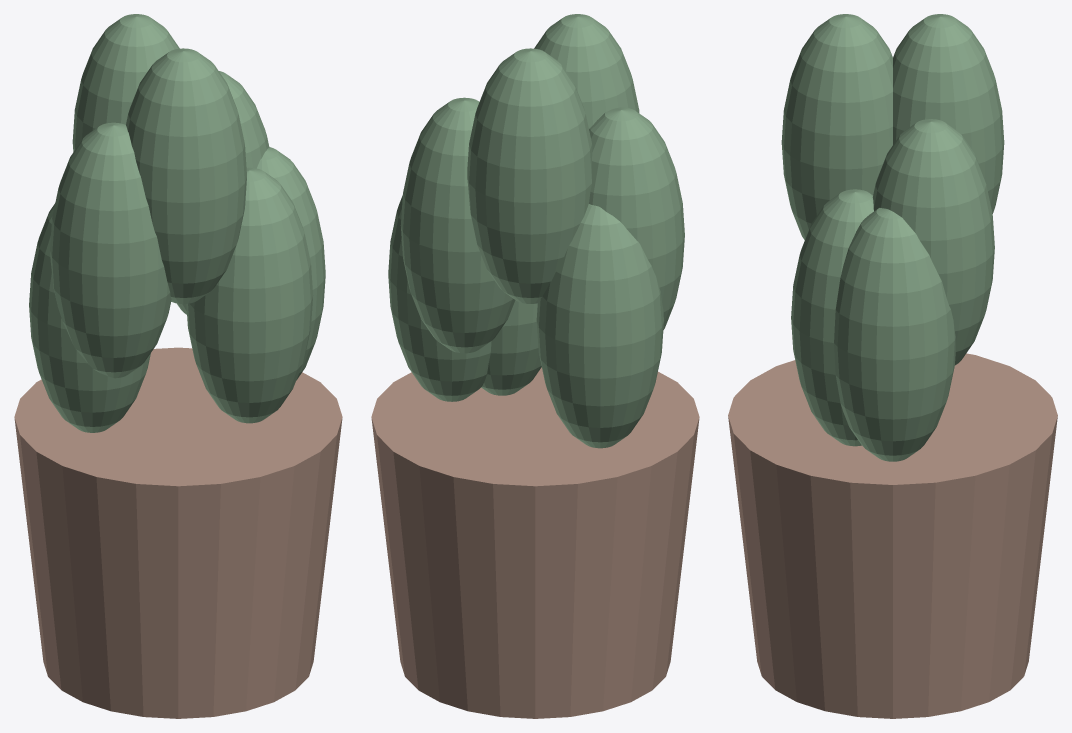
File: sketch_plant.glb
3 renders of one model, left to right at view 1: azimuth 30°, elevation 25°; view 2: azimuth 150°, elevation 25°; view 3: azimuth 270°, elevation 25°, orthographic.
Visible parts, largest first — view 1: Cone, Sphere.004, Sphere.005, Sphere.006, Sphere.003, Sphere.002, Sphere, Sphere.001; view 2: Cone, Sphere.002, Sphere.003, Sphere.001, Sphere.004, Sphere, Sphere.005, Sphere.006; view 3: Cone, Sphere, Sphere.005, Sphere.001, Sphere.002, Sphere.006.
Boxes of the visible parts, x1=… form: Cone: x1=14, y1=347, x2=342, y2=718; Sphere.004: x1=50, y1=122, x2=171, y2=378; Sphere.005: x1=126, y1=48, x2=246, y2=303; Sphere.006: x1=186, y1=167, x2=313, y2=423; Sphere.003: x1=29, y1=203, x2=150, y2=432; Sphere.002: x1=72, y1=14, x2=179, y2=151; Sphere: x1=257, y1=147, x2=325, y2=380; Sphere.001: x1=177, y1=71, x2=269, y2=314; Cone: x1=371, y1=367, x2=699, y2=718; Sphere.002: x1=467, y1=48, x2=592, y2=303; Sphere.003: x1=536, y1=204, x2=663, y2=448; Sphere.001: x1=400, y1=97, x2=515, y2=353; Sphere.004: x1=589, y1=107, x2=684, y2=329; Sphere: x1=388, y1=195, x2=491, y2=401; Sphere.005: x1=534, y1=14, x2=639, y2=129; Sphere.006: x1=481, y1=300, x2=541, y2=395; Cone: x1=728, y1=353, x2=1057, y2=718; Sphere: x1=834, y1=208, x2=955, y2=461; Sphere.005: x1=781, y1=14, x2=892, y2=239; Sphere.001: x1=872, y1=119, x2=994, y2=365; Sphere.002: x1=893, y1=14, x2=1004, y2=213; Sphere.006: x1=791, y1=189, x2=873, y2=446.
Size of the model in its own units: 0.34 by 0.723 by 0.34.
